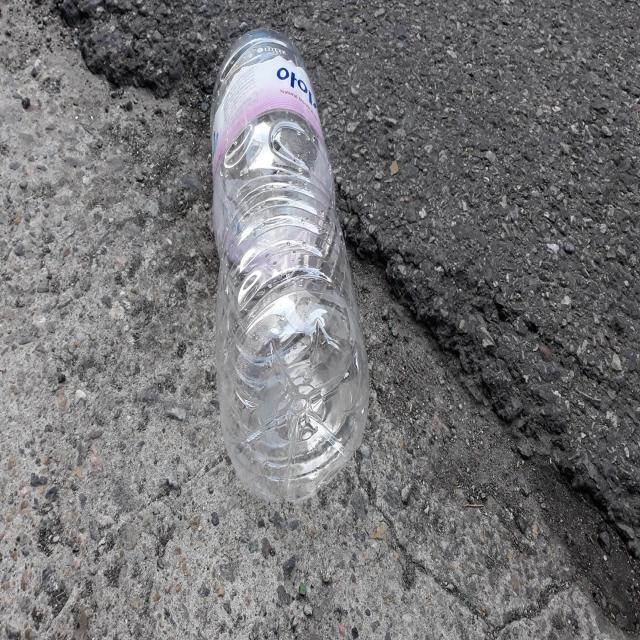plastic: (210, 28, 369, 500)
